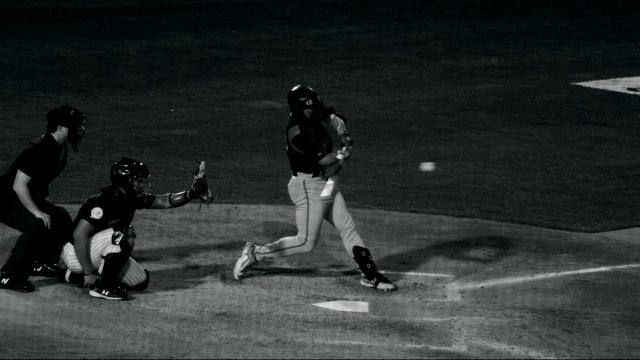ball: (422, 162, 434, 172)
bat: (321, 152, 343, 206)
